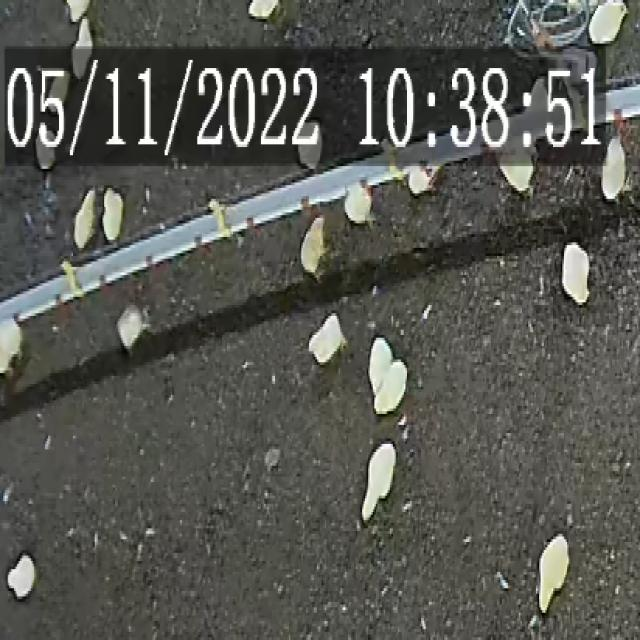broiler: (360, 441, 395, 520), (537, 534, 569, 610), (308, 313, 345, 362), (373, 359, 407, 411), (561, 242, 589, 302), (589, 0, 626, 44), (601, 133, 624, 199), (300, 215, 325, 275), (6, 550, 36, 599), (73, 188, 95, 248), (499, 153, 533, 191), (117, 305, 146, 349), (71, 16, 92, 76), (368, 338, 391, 392), (343, 182, 370, 221), (103, 188, 123, 240), (407, 166, 438, 193), (0, 319, 22, 357), (249, 0, 278, 16)
pipe: (228, 161, 393, 229), (76, 215, 219, 291), (0, 275, 71, 324), (419, 136, 480, 158), (604, 84, 638, 120), (513, 109, 558, 136)
